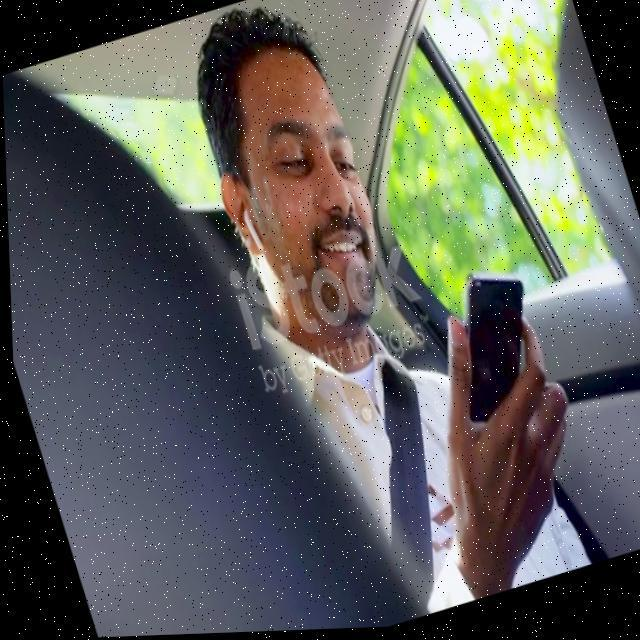PhoneCall: (428, 258, 560, 450)
